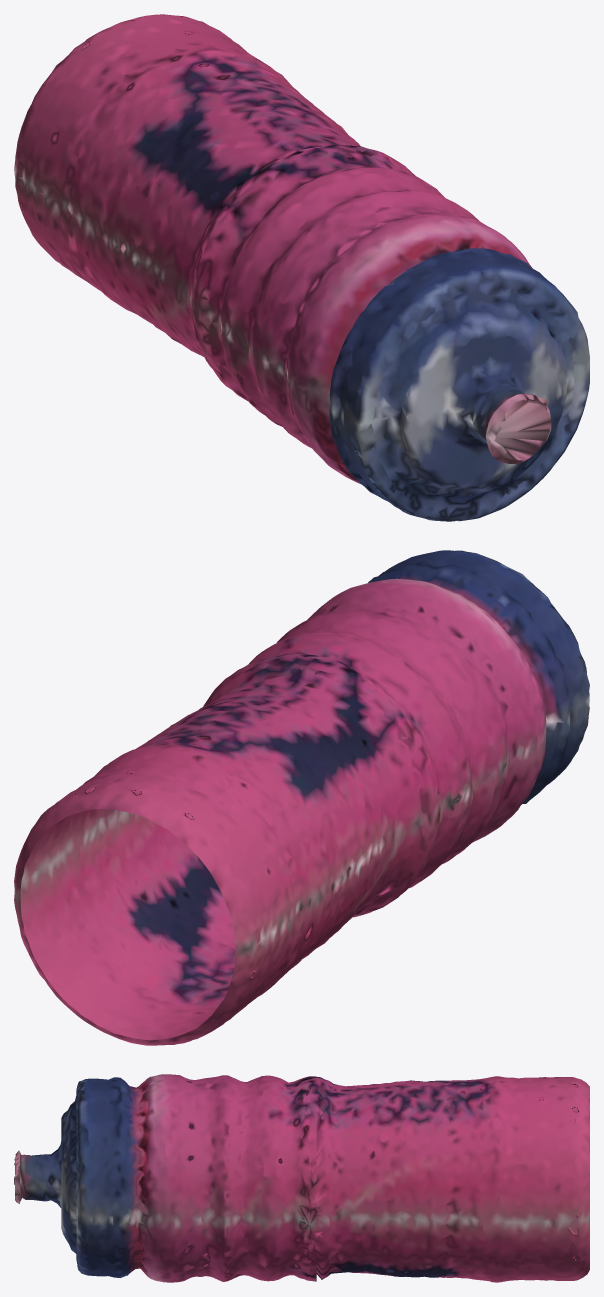
The picture shows the model from 3 angles, top to bottom: view 1: azimuth 30°, elevation 25°; view 2: azimuth 150°, elevation 25°; view 3: azimuth 270°, elevation 25°; orthographic projection. The views are drawn at different scales.
Bounding box in the file's own units: 248 × 248 × 683.
